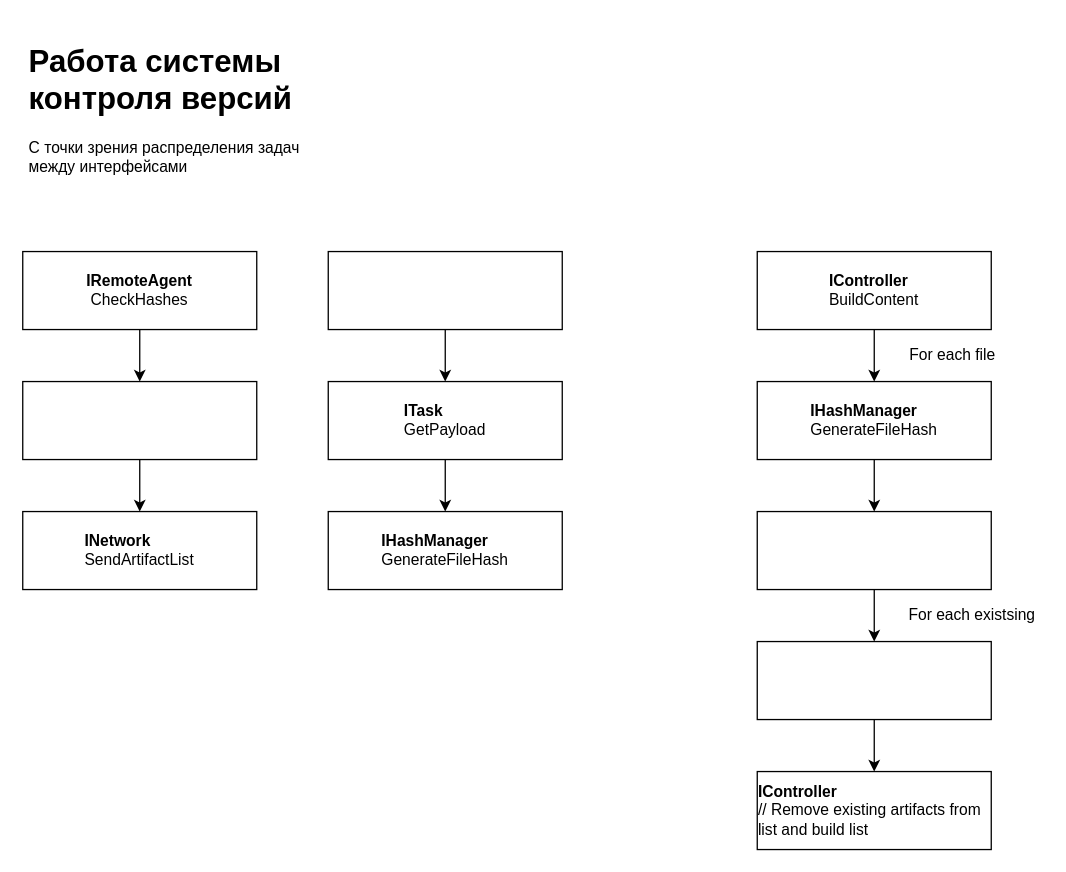
This 1066x872 diagram has some shape labels left out. Each missing label, with the box of its shape:
IHashManager GetArtifactsFromHashlist: (21, 380, 257, 460)
INetwork CollectArtifact: (756, 640, 991, 720)
INetwork GetExistingArtifactList: (756, 510, 991, 590)
IRemoteAgent DoTask: (327, 250, 562, 330)
